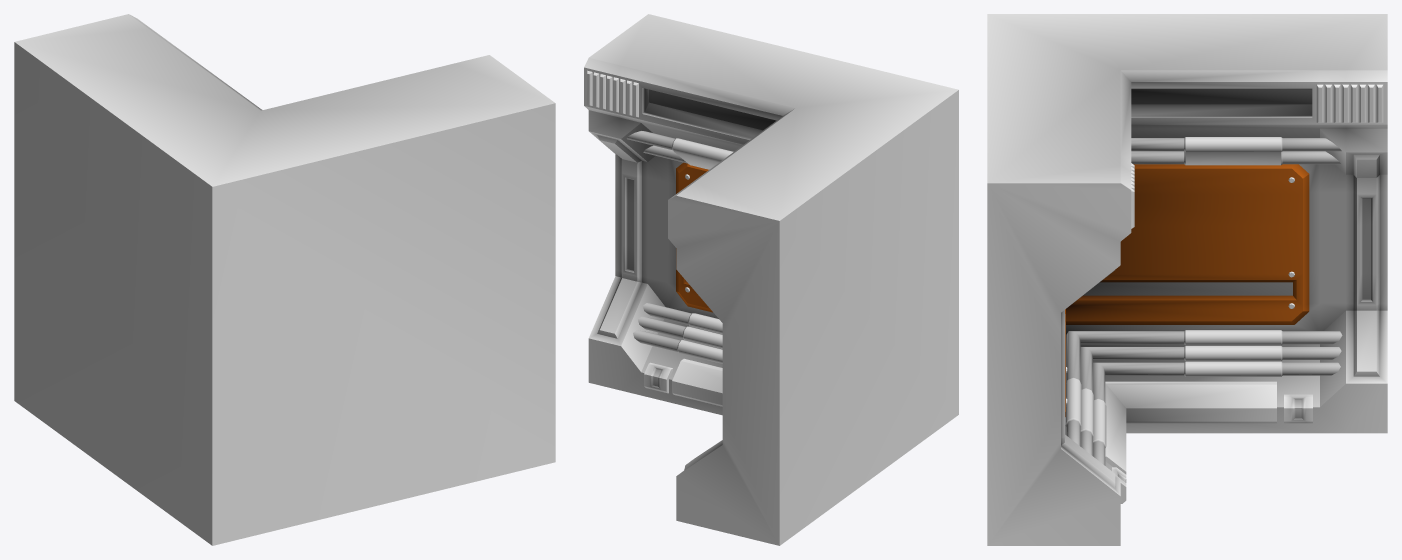
Rendered from wallAngleStraightIn.FBX.
3 views of the same model, side by side, from view 1: azimuth 30°, elevation 25°; view 2: azimuth 150°, elevation 25°; view 3: azimuth 270°, elevation 25° (orthographic). The views are drawn at different scales.
Parts seen in each view (by area): view 1: wallAngleStraightIn; view 2: wallAngleStraightIn; view 3: wallAngleStraightIn.
Boxes of the visible parts, x1,y1,x2,y2 form: wallAngleStraightIn: (14, 14, 555, 545); wallAngleStraightIn: (584, 14, 958, 545); wallAngleStraightIn: (987, 14, 1387, 545).
Bounding box in the file's own units: 3 × 3 × 3.
